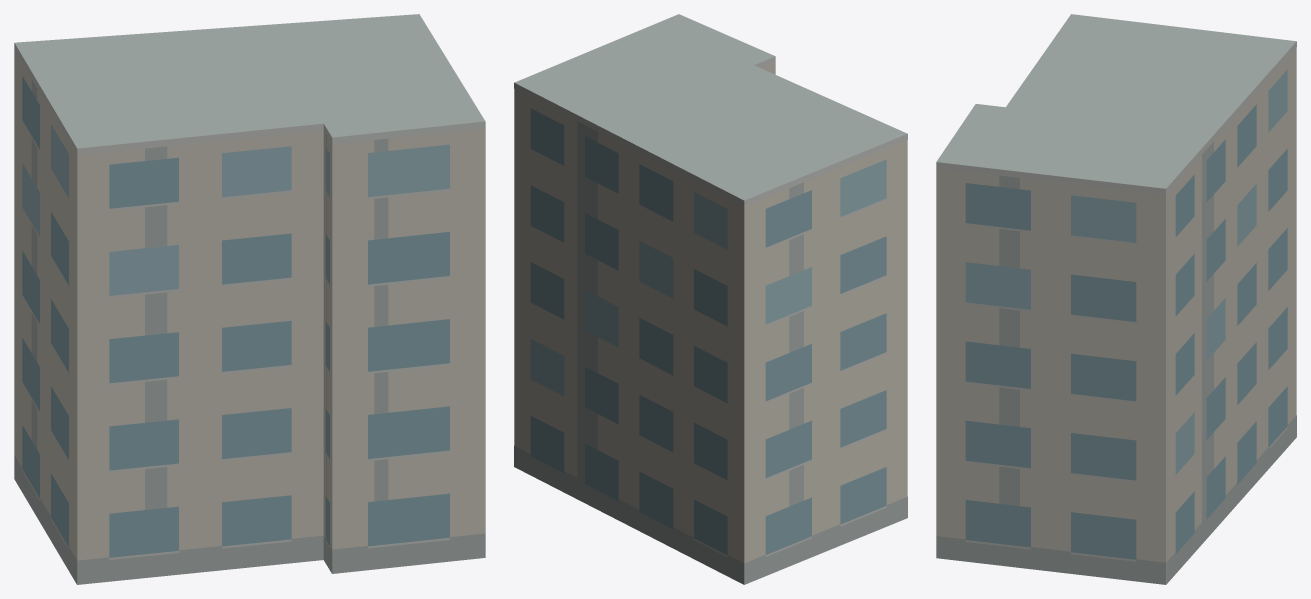
The model's file is survey-upis-33008204.glb.
3 views of the same model, side by side, from view 1: azimuth 30°, elevation 25°; view 2: azimuth 150°, elevation 25°; view 3: azimuth 270°, elevation 25° (orthographic). The views are drawn at different scales.
Parts seen in each view (by area): view 1: survey-upis-33008204.tmp; view 2: survey-upis-33008204.tmp; view 3: survey-upis-33008204.tmp.
Boxes of the visible parts, x1,y1,x2,y2 form: survey-upis-33008204.tmp: (14, 14, 485, 584); survey-upis-33008204.tmp: (514, 14, 907, 584); survey-upis-33008204.tmp: (936, 14, 1296, 584).
Bounding box in the file's own units: 14.68 × 15.5 × 12.79.
